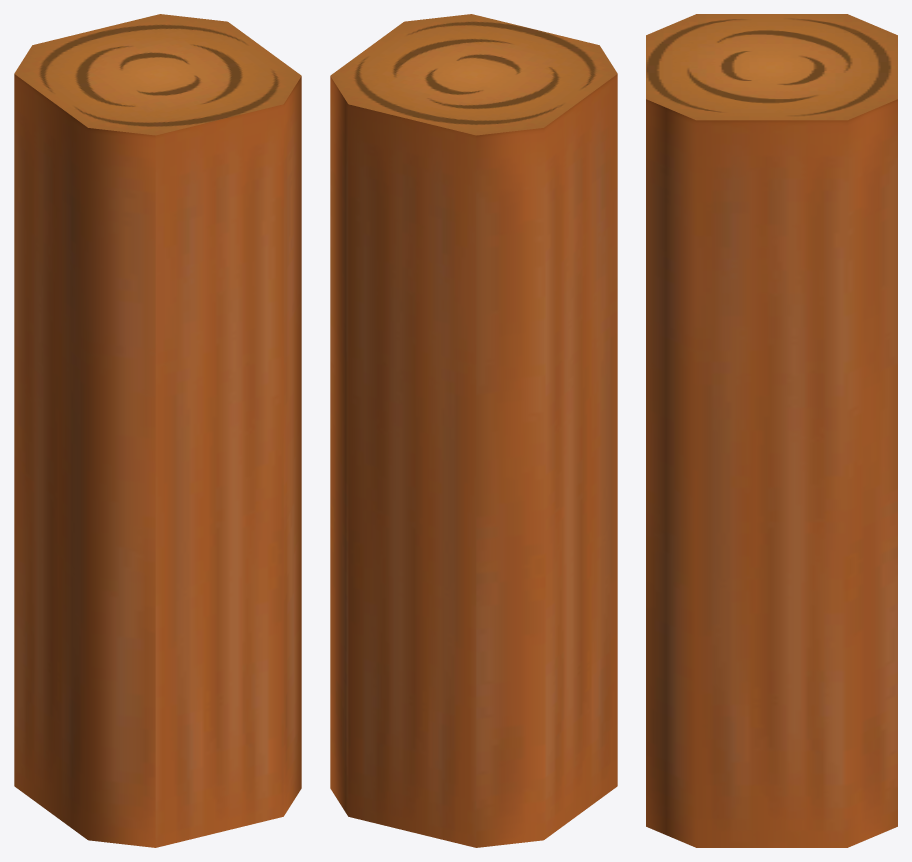
File: GumWoodFencePostHand.fbx
The picture shows the model from 3 angles, left to right: view 1: azimuth 30°, elevation 25°; view 2: azimuth 150°, elevation 25°; view 3: azimuth 270°, elevation 25°; orthographic projection. The views are drawn at different scales.
Visible parts, largest first — view 1: FencePost; view 2: FencePost; view 3: FencePost.
Part boxes in pixels (x1=…): FencePost: x1=14, y1=14, x2=301, y2=847; FencePost: x1=330, y1=14, x2=617, y2=847; FencePost: x1=646, y1=14, x2=897, y2=847.
Size of the model in its own units: 0.2781 by 0.8861 by 0.2781.
